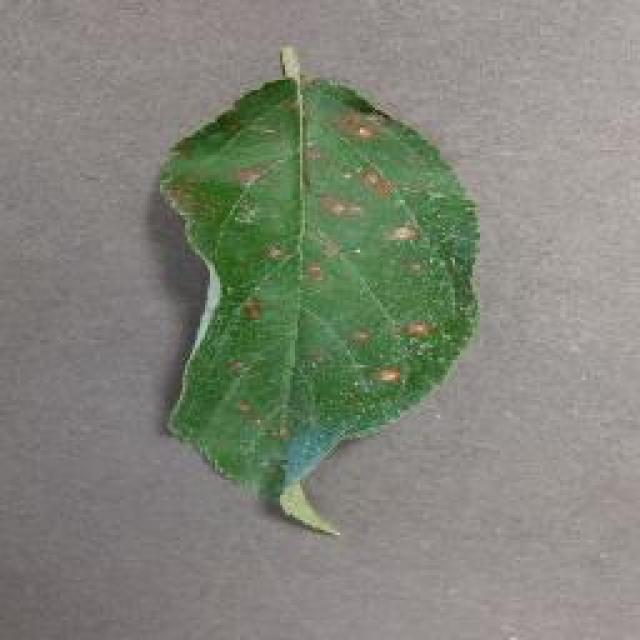apple scab disease: (155, 45, 480, 535)
